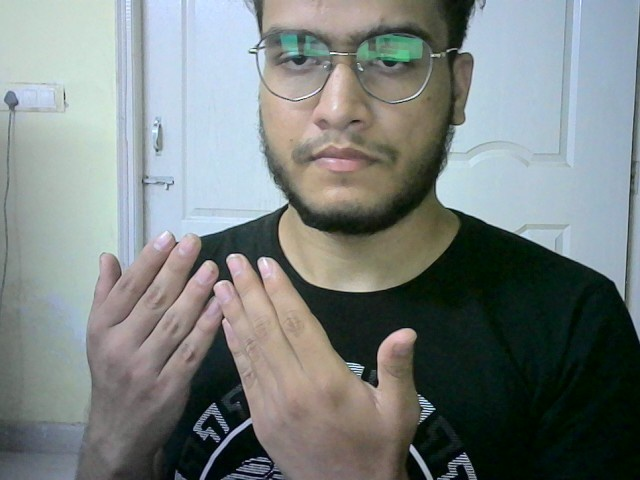Thank You: (76, 227, 424, 476)
